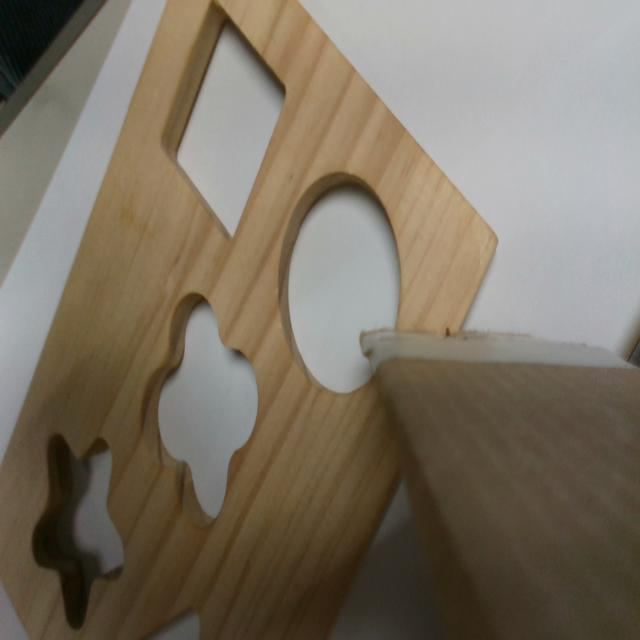circle: (281, 172, 401, 392)
flower: (141, 291, 262, 520)
square: (159, 2, 287, 244)
star: (30, 433, 125, 628)
